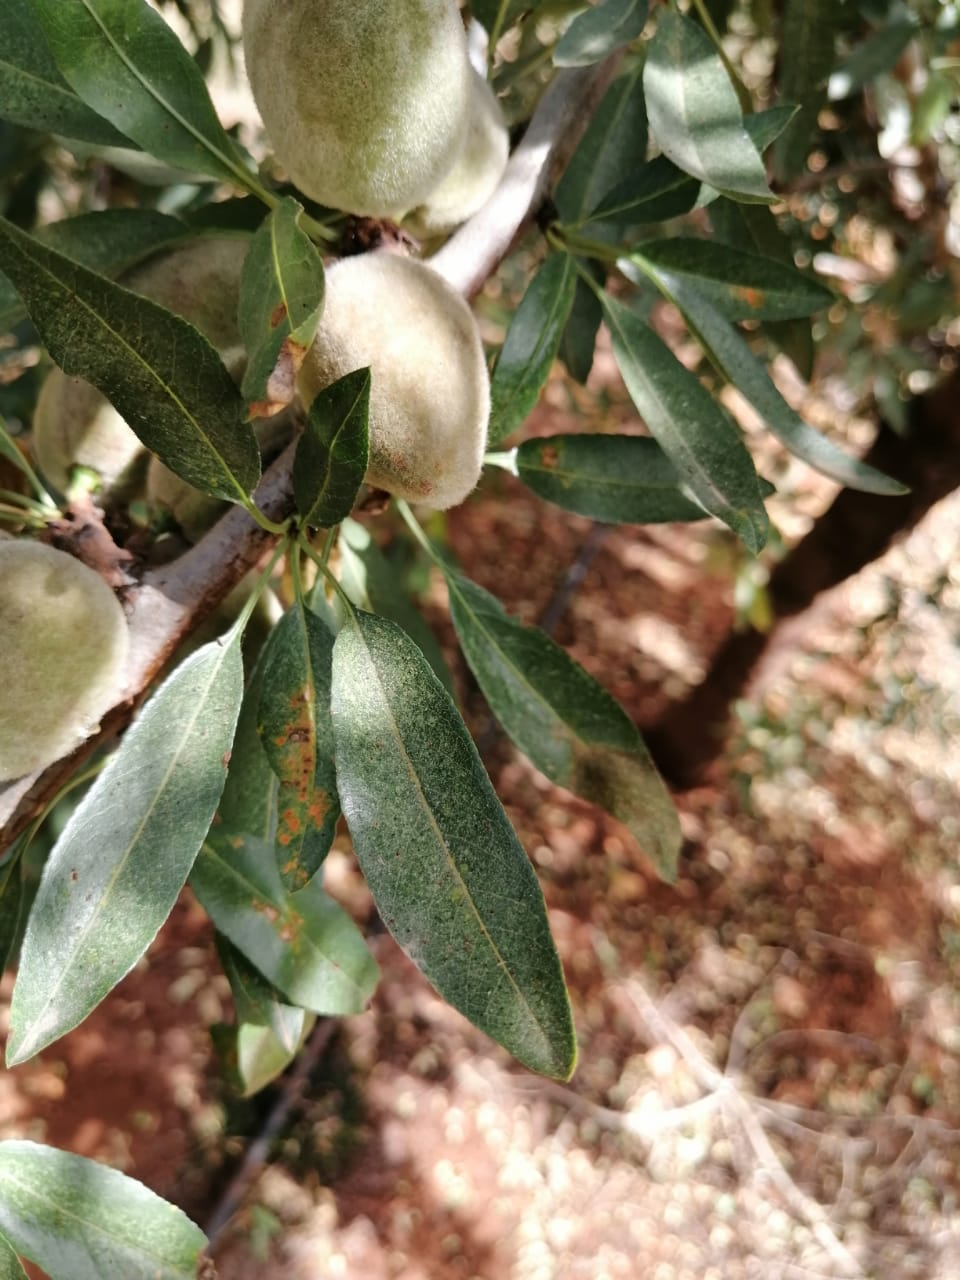acariens: (329, 613, 582, 1085), (2, 633, 245, 1071), (1, 217, 259, 510), (445, 567, 683, 879)
